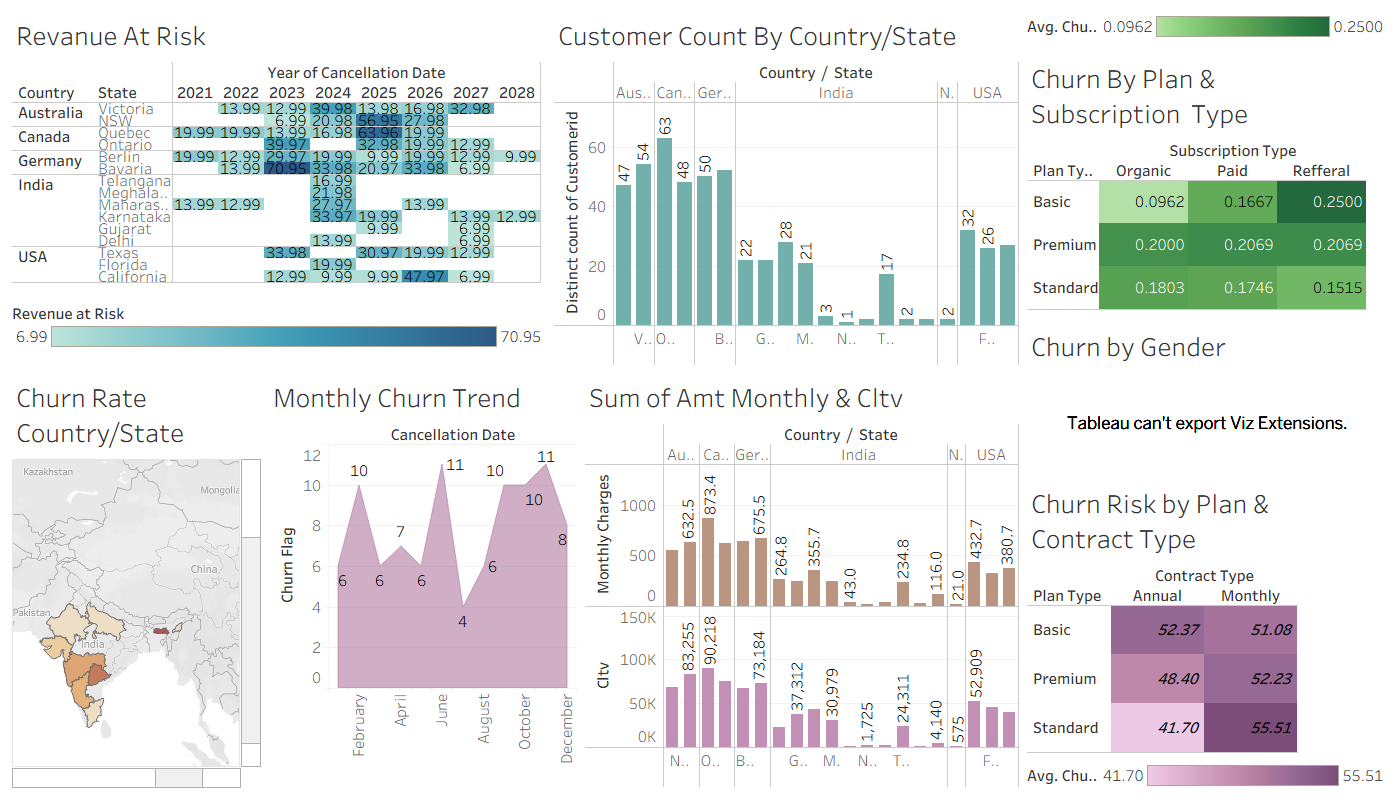

What the dashboard file says about the page in this screenshot:
{"tool":"tableau","page":{"name":"Dashboard 1","canvas":[1400,800],"ordinal":0},"visuals":[{"type":"worksheet","title":"Revanue At Risk","mark":"Square","rows":["country","state"],"cols":["cancellation_date"],"box":[8,8,542,287]},{"type":"worksheet","title":"Customer Count By Country/State","mark":"Automatic","rows":["customerid"],"cols":["country","state"],"box":[550,8,473,362]},{"type":"legend","title":"Churn By Plan & Subscription  Type","param":"[federated.0uigxyb1a7emqa1ab3o0k0rytsqu].[avg:churn_flag:qk]","box":[1023,8,369,43]},{"type":"worksheet","title":"Churn By Plan & Subscription  Type","mark":"Square","rows":["plan_type"],"cols":["subscription_type"],"box":[1023,51,369,268]},{"type":"legend","title":"Revanue At Risk","param":"[federated.0uigxyb1a7emqa1ab3o0k0rytsqu].[sum:Calculation_1927758299774980:qk]","box":[8,295,542,75]},{"type":"worksheet","title":"Churn by Gender","mark":"VizExtension","box":[1023,319,369,157]},{"type":"worksheet","title":"Churn Rate Country/State ","mark":"Automatic","box":[8,370,256.6,422]},{"type":"worksheet","title":"Monthly Churn Trend","mark":"Area","rows":["churn_flag"],"cols":["cancellation_date"],"box":[264.6,370,316.1,422]},{"type":"worksheet","title":"Sum of Amt Monthly & Cltv","mark":"Automatic","rows":["monthly_charges","cltv"],"cols":["country","state"],"box":[580.7,370,442.3,422]},{"type":"worksheet","title":"Churn Risk by Plan &  Contract Type","mark":"Square","rows":["plan_type"],"cols":["contract_type"],"box":[1023,476,369,281]},{"type":"legend","title":"Churn Risk by Plan &  Contract Type","param":"[federated.0uigxyb1a7emqa1ab3o0k0rytsqu].[avg:churn_score:qk]","box":[1023,757,369,35]}]}

Visuals, with their boxes in screenshot pixels (x1, y1, x2, y2), scaled from the page's 1400x800 canvas onto the 1400x800 screenshot:
"Revanue At Risk" worksheet (Square marks): 8/8/550/295
"Customer Count By Country/State" worksheet: 550/8/1023/370
"Churn By Plan & Subscription  Type" legend: 1023/8/1392/51
"Churn By Plan & Subscription  Type" worksheet (Square marks): 1023/51/1392/319
"Revanue At Risk" legend: 8/295/550/370
"Churn by Gender" worksheet (VizExtension marks): 1023/319/1392/476
"Churn Rate Country/State " worksheet: 8/370/265/792
"Monthly Churn Trend" worksheet (Area marks): 265/370/581/792
"Sum of Amt Monthly & Cltv" worksheet: 581/370/1023/792
"Churn Risk by Plan &  Contract Type" worksheet (Square marks): 1023/476/1392/757
"Churn Risk by Plan &  Contract Type" legend: 1023/757/1392/792
